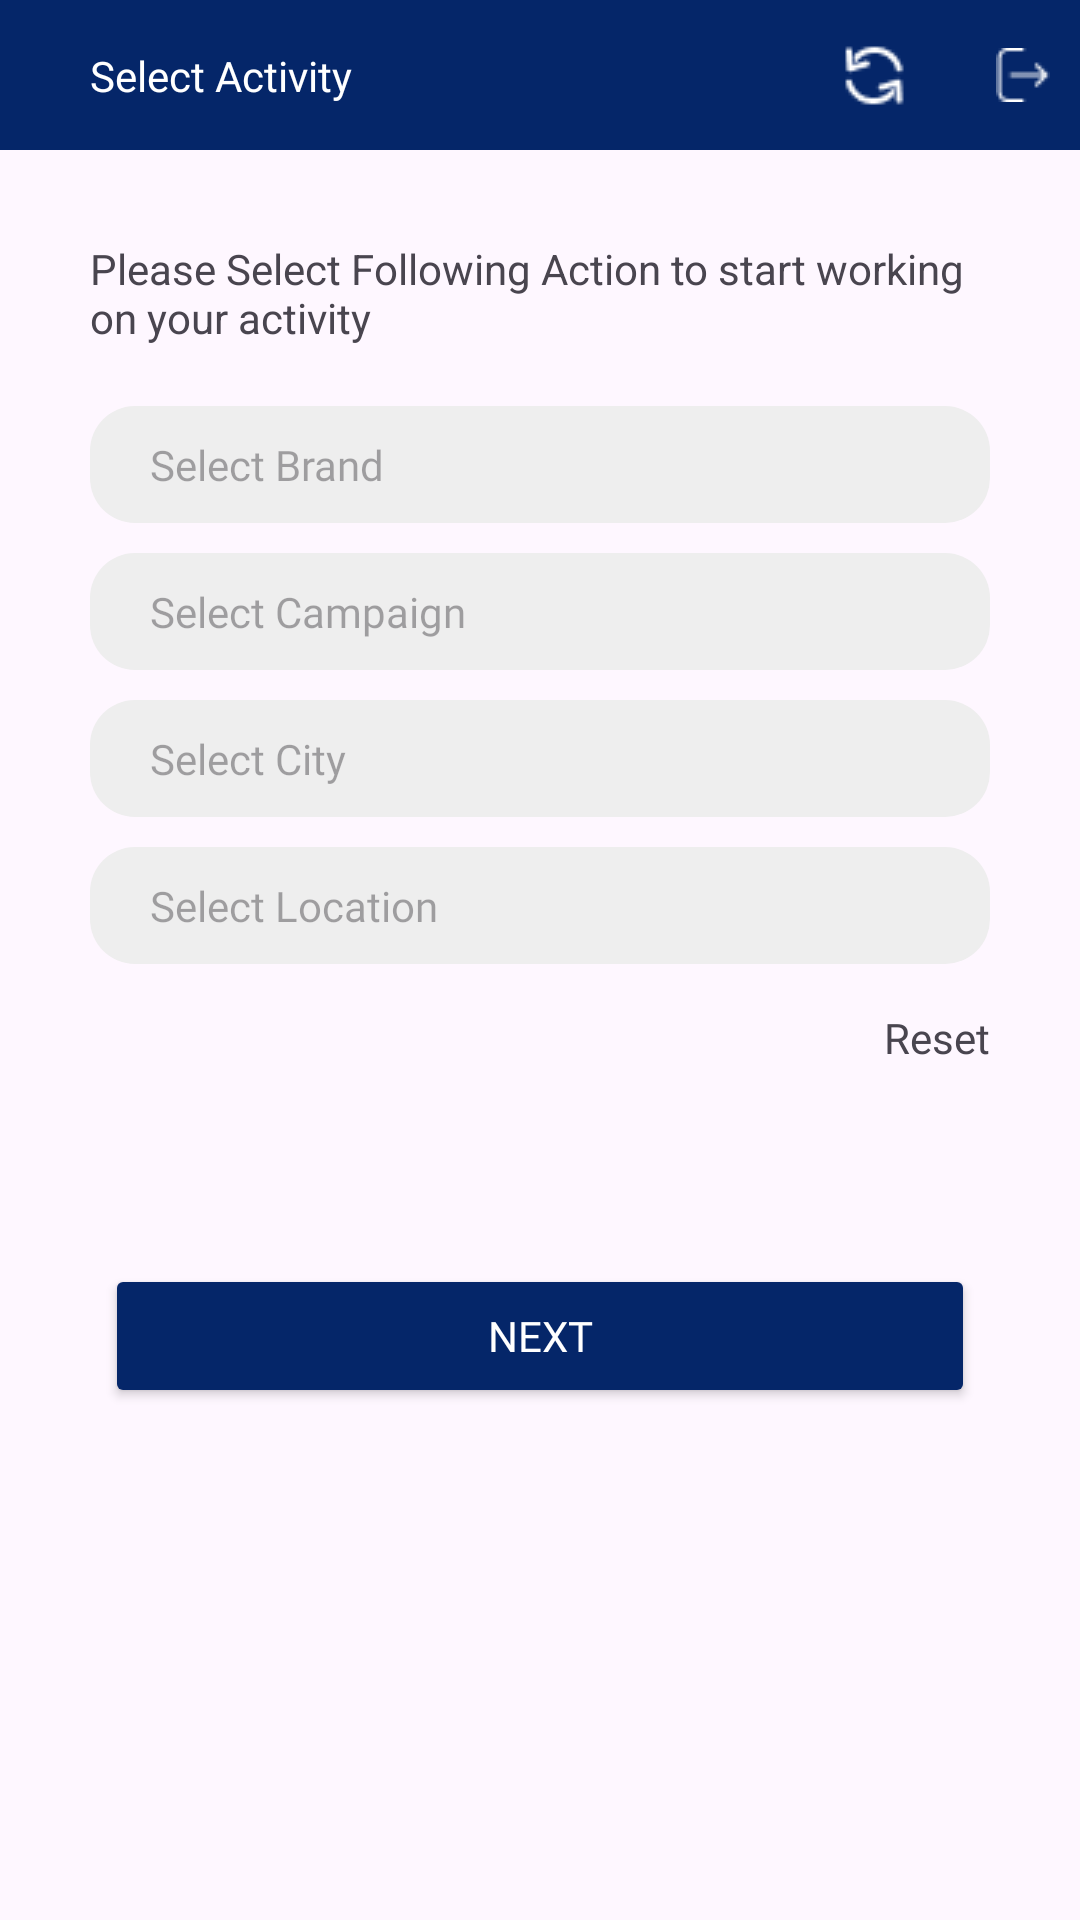

Icons on this 1080x1920 Android screen, each with its box as (x1, y1, x2, y2):
refresh: (845, 46, 904, 105)
